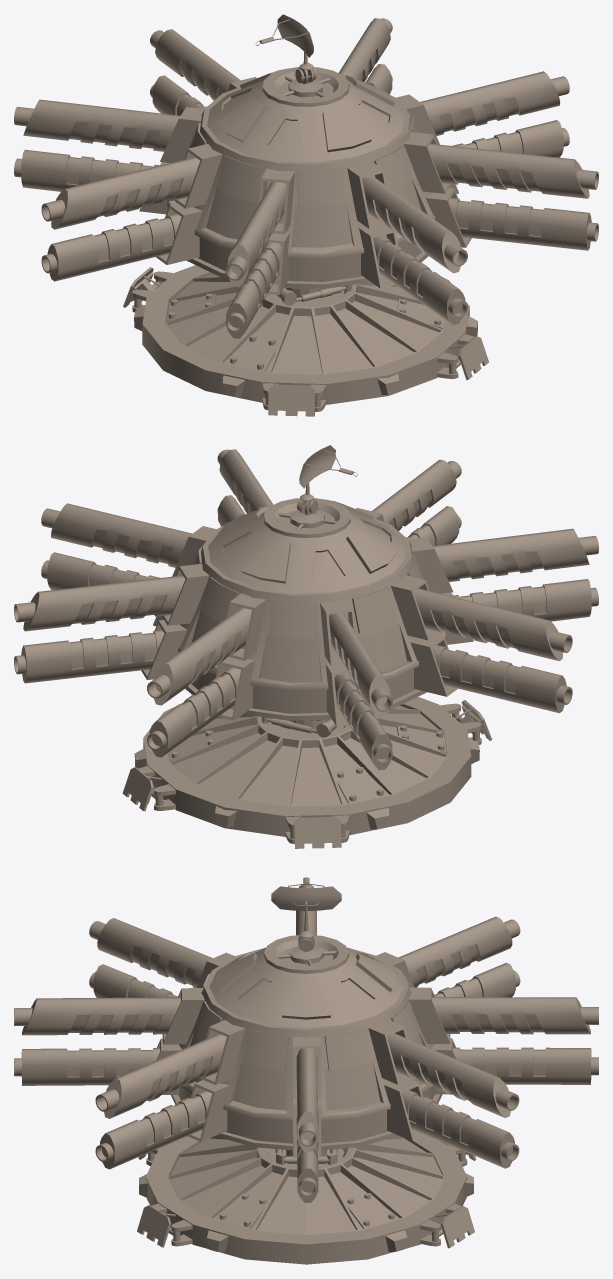
3 renders of one model, top to bottom at view 1: azimuth 30°, elevation 25°; view 2: azimuth 150°, elevation 25°; view 3: azimuth 270°, elevation 25°, orthographic. The views are drawn at different scales.
Visible parts, largest first — view 1: Body, Support_, Antena; view 2: Body, Support_, Antena; view 3: Body, Support_, Antena.
Boxes of the visible parts, box(x1,y1,x2,y2) form: Body: box(14, 18, 598, 338); Support_: box(123, 265, 488, 416); Antena: box(255, 14, 322, 97); Body: box(14, 449, 598, 770); Support_: box(122, 697, 492, 848); Antena: box(290, 445, 357, 528); Body: box(14, 884, 598, 1202); Support_: box(137, 1135, 476, 1264); Antena: box(271, 877, 341, 964).
Bounding box in the file's own units: 349 × 201 × 349.
